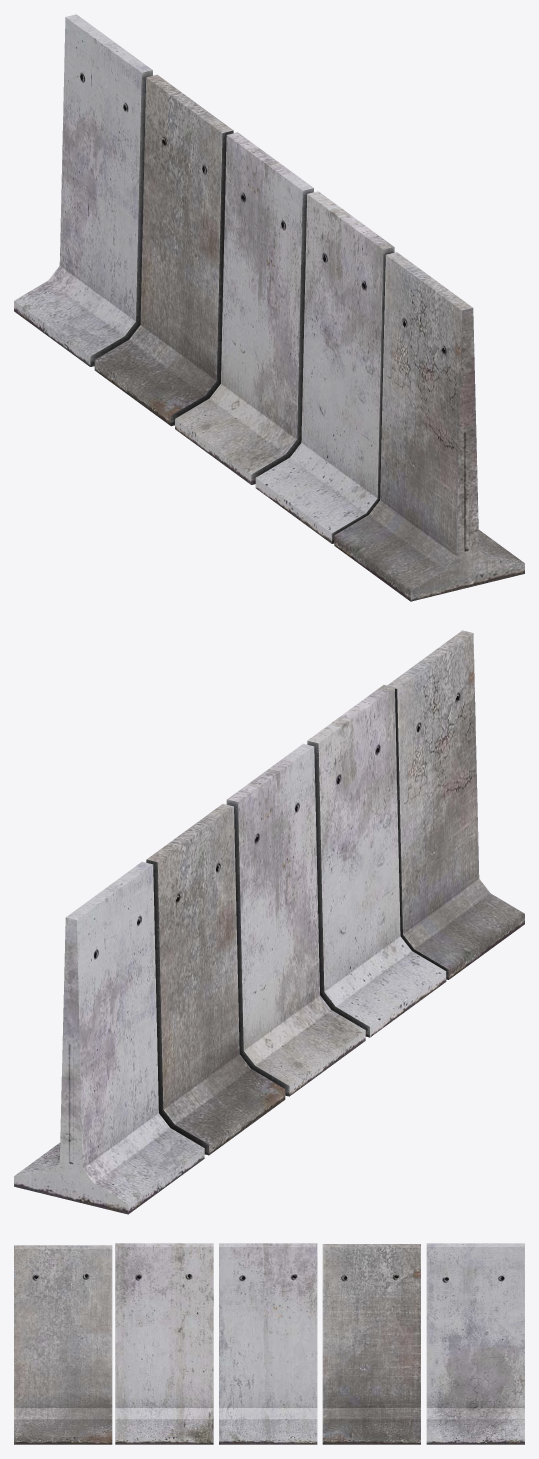
3 renders of one model, top to bottom at view 1: azimuth 30°, elevation 25°; view 2: azimuth 150°, elevation 25°; view 3: azimuth 270°, elevation 25°, orthographic. The views are drawn at different scales.
Visible parts, largest first — view 1: A_Concrete_T_A_Concrete_0; view 2: A_Concrete_T_A_Concrete_0; view 3: A_Concrete_T_A_Concrete_0.
Part boxes in pixels (<box>): A_Concrete_T_A_Concrete_0: <box>14,14,524,601</box>; A_Concrete_T_A_Concrete_0: <box>14,630,524,1214</box>; A_Concrete_T_A_Concrete_0: <box>14,1243,524,1444</box>.
Size of the model in its own units: 2 by 4.71 by 12.02.
Materials: 1 (1 with a texture image).
